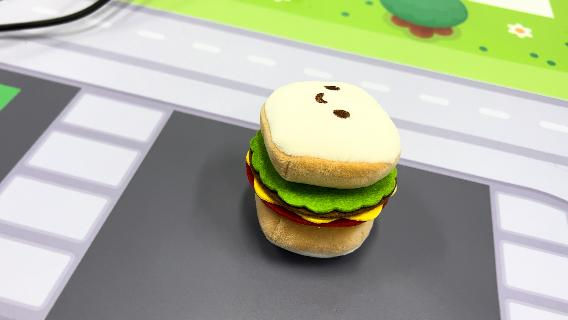sandwich: (244, 78, 404, 260)
